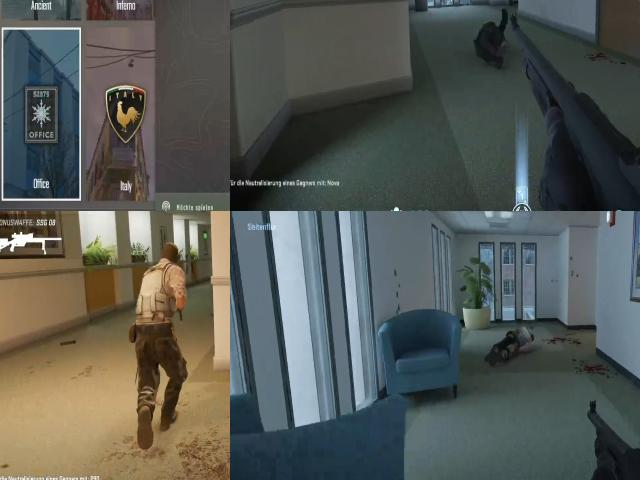Dead: (476, 12, 511, 70), (497, 323, 536, 362)
T: (127, 236, 191, 340)
T-Head: (154, 238, 186, 273)
